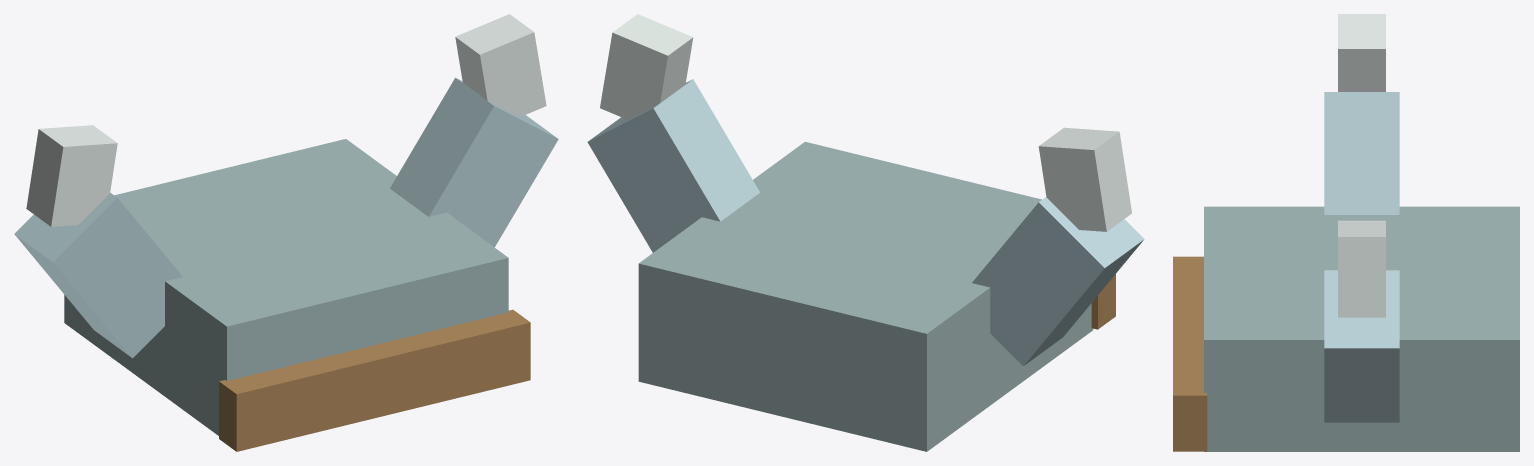
The model's file is horned_helm.glb.
3 renders of one model, left to right at view 1: azimuth 30°, elevation 25°; view 2: azimuth 150°, elevation 25°; view 3: azimuth 270°, elevation 25°, orthographic. The views are drawn at different scales.
Visible parts, largest first — view 1: horned_helm; view 2: horned_helm; view 3: horned_helm.
Boxes of the visible parts, <box> form: horned_helm: <box>14,14,558,451</box>; horned_helm: <box>587,14,1144,451</box>; horned_helm: <box>1173,14,1519,451</box>.
Bounding box in the file's own units: 0.8254 × 0.4174 × 0.505.
